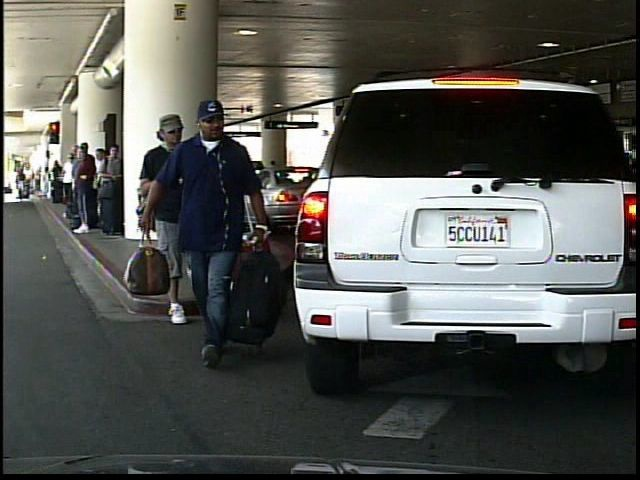person: (153, 91, 291, 369), (143, 103, 216, 306), (178, 134, 228, 257)
